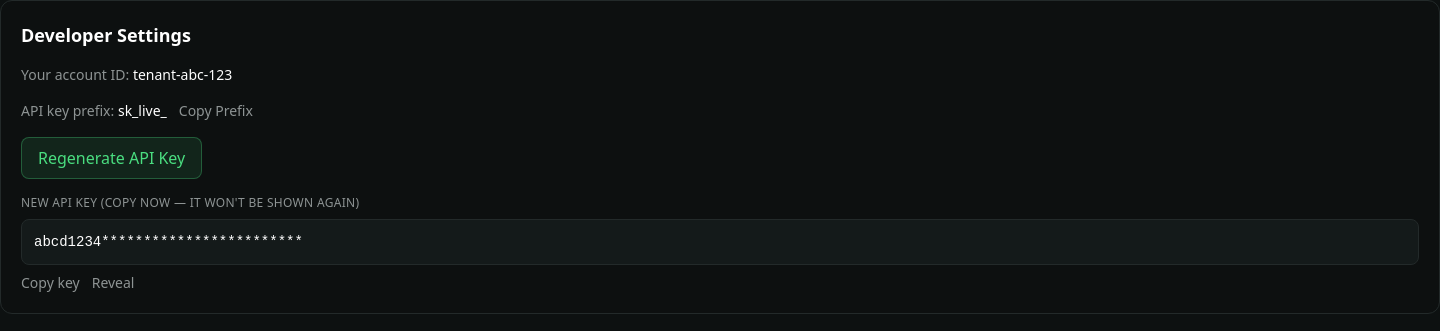
Scenario: DeveloperSettingsCard › hides full key when Hide button is clicked after revealing
The image size is (1440, 331).
Click the button "Reveal". click: (113, 283)
box: [92,273,134,293]
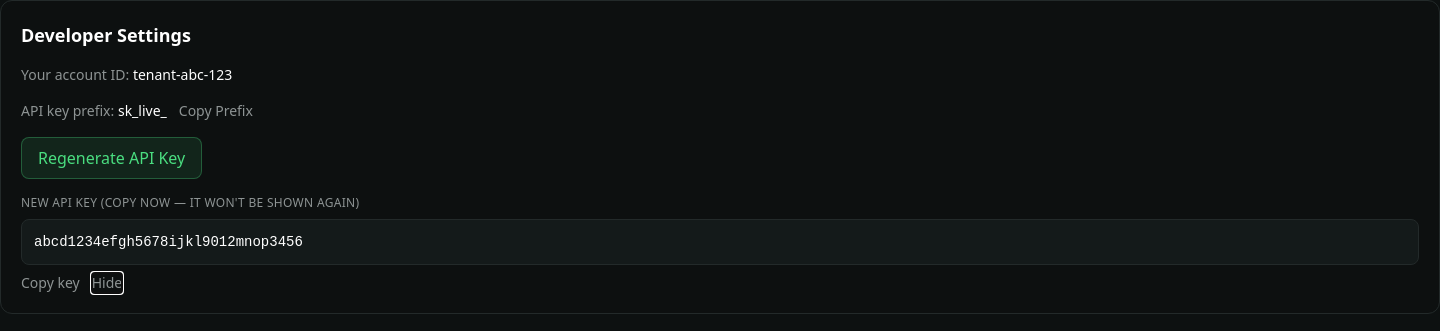
Expected: the text "abcd1234efgh5678ijkl9012mnop3456" is shown, [21,219,1419,265]
Click the button "Hide". click: (107, 283)
box: [92,273,122,293]
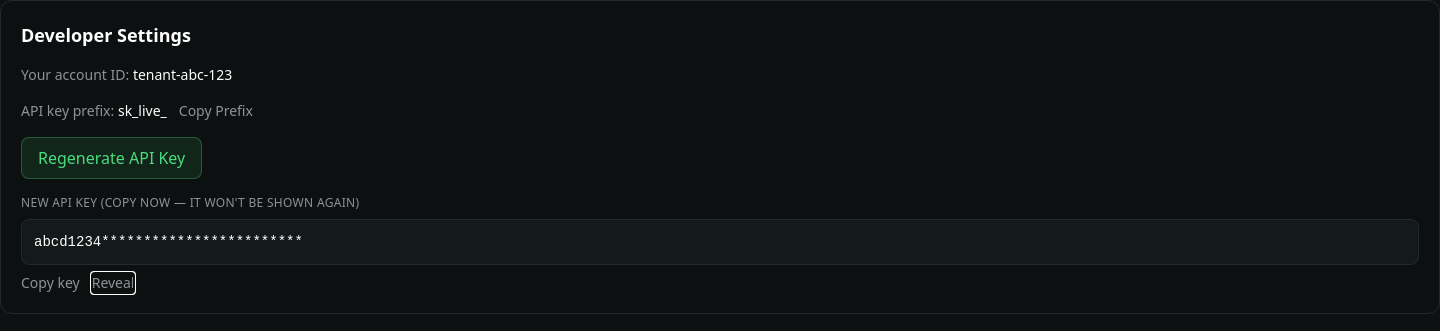
Expected: the text "abcd1234efgh5678ijkl9012mnop3456" is gone
